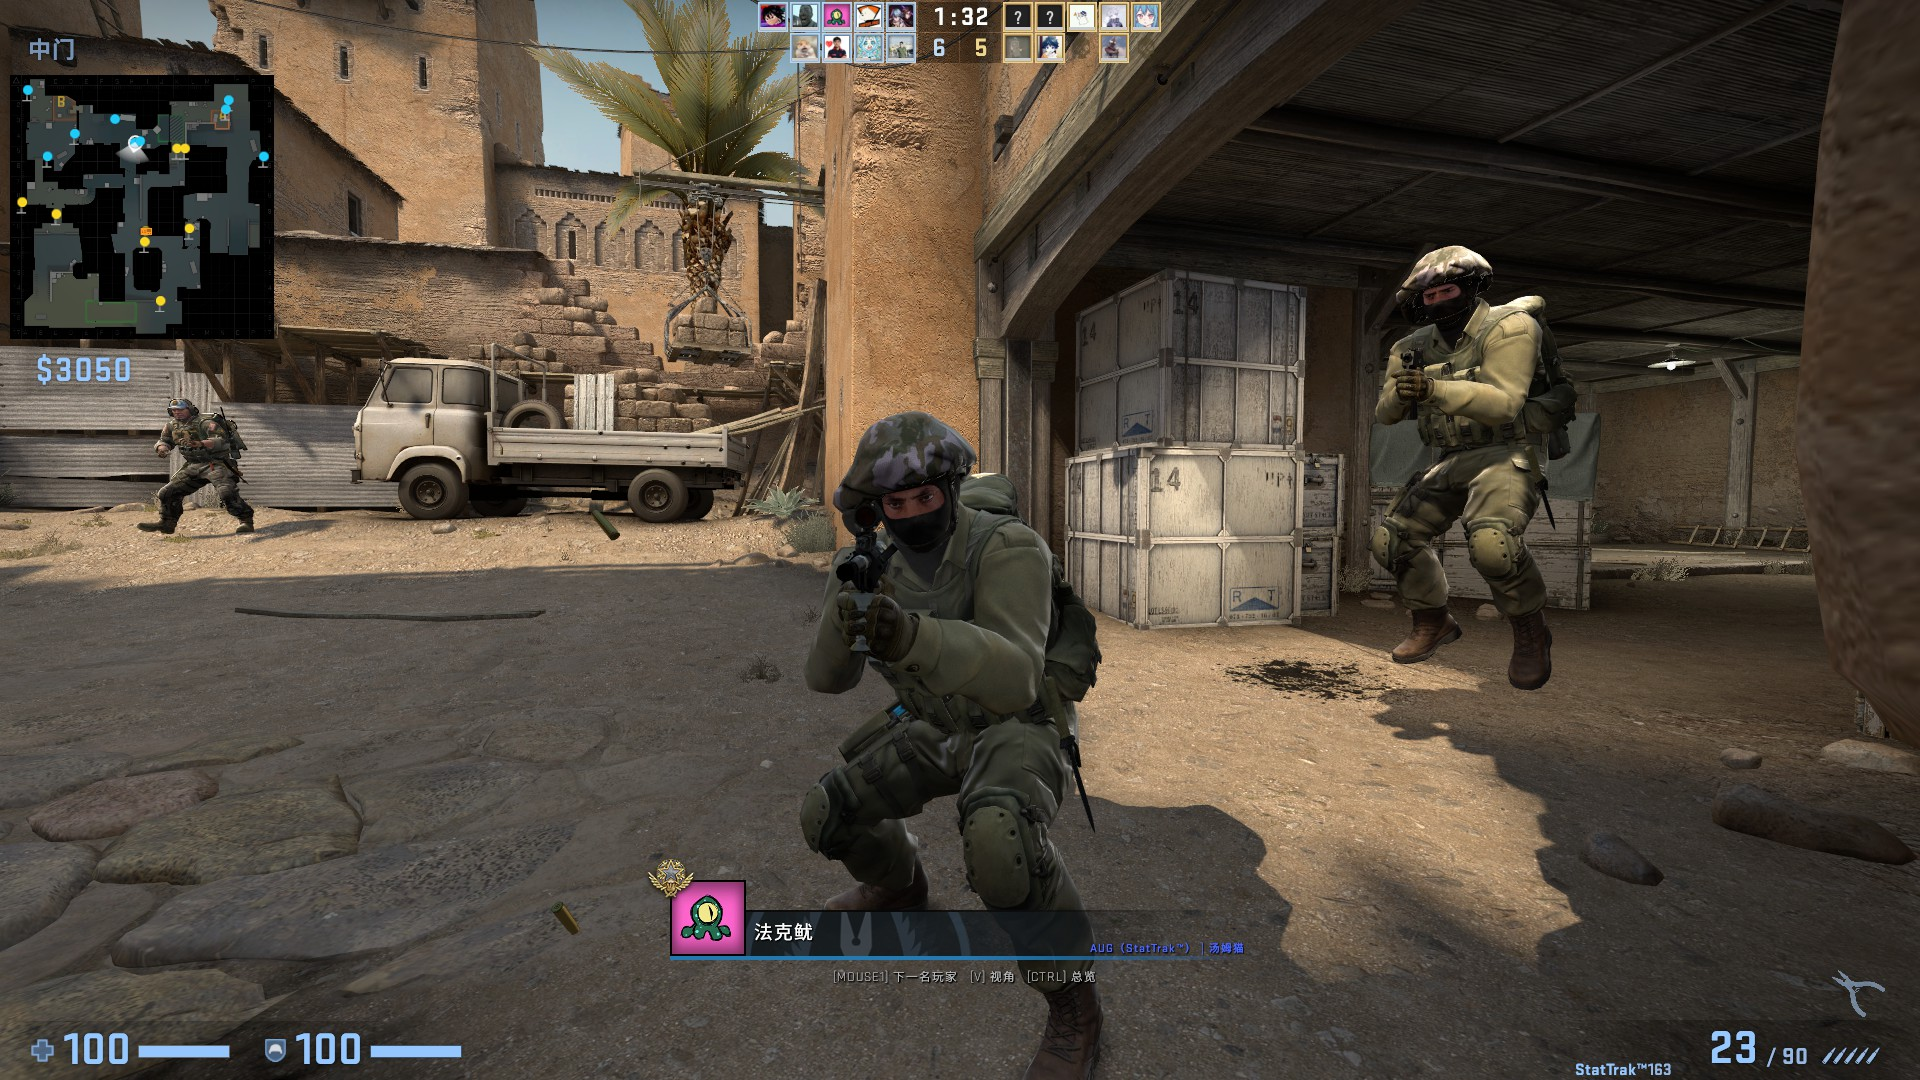head: (831, 411, 991, 541), (1395, 245, 1495, 323), (165, 397, 197, 420)
